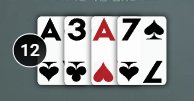3: (62, 16, 90, 43)
7: (115, 15, 144, 44)
a: (35, 15, 63, 44), (89, 16, 118, 44)
